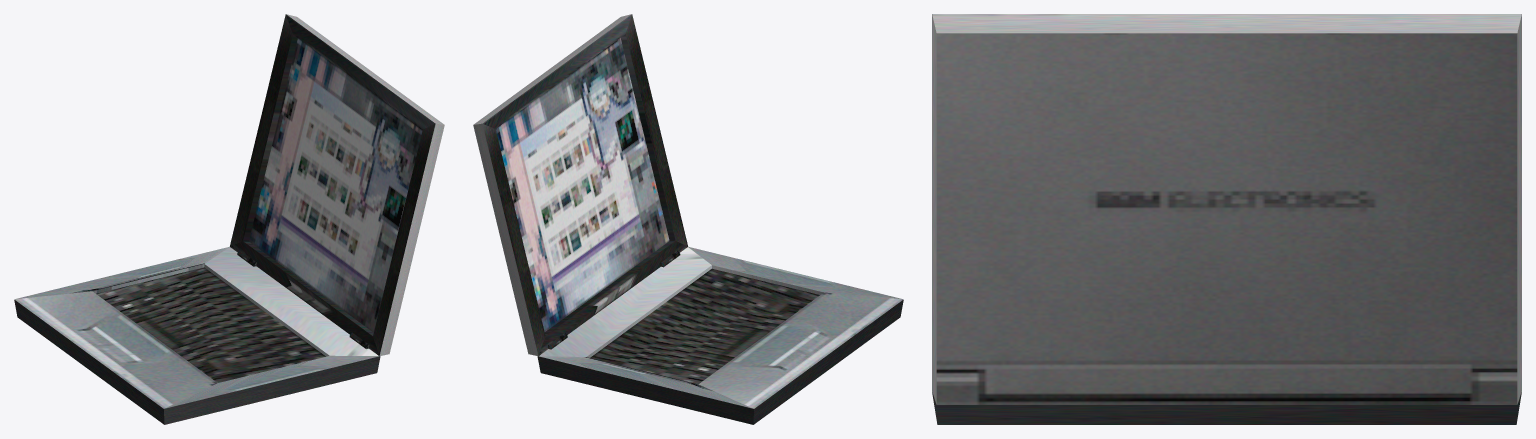
Rendered from notebookopen_02.fbx.
The picture shows the model from 3 angles, left to right: view 1: azimuth 30°, elevation 25°; view 2: azimuth 150°, elevation 25°; view 3: azimuth 270°, elevation 25°; orthographic projection. The views are drawn at different scales.
Visible parts, largest first — view 1: Cylinder.003; view 2: Cylinder.003; view 3: Cylinder.003.
Boxes of the visible parts, x1,y1,x2,y2 form: Cylinder.003: (14,14,444,424); Cylinder.003: (473,14,903,424); Cylinder.003: (932,14,1521,424).
Size of the model in its own units: 43.5 by 34.85 by 40.
2 materials, 2 textured.
